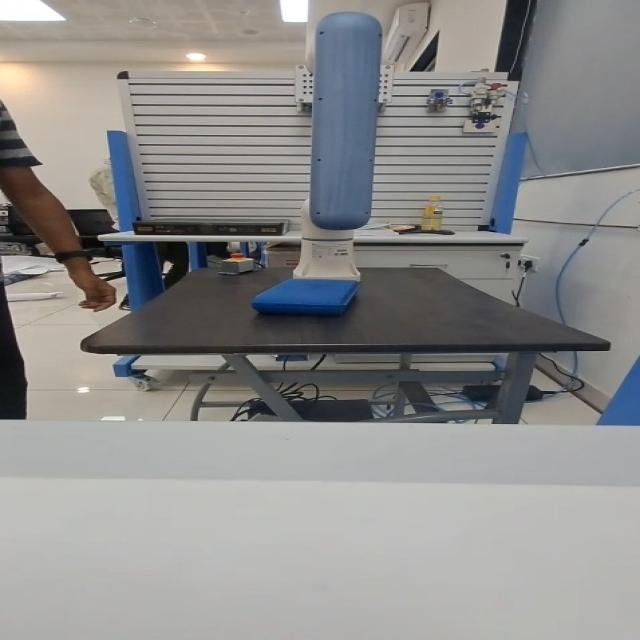top-surface: (266, 279, 347, 300)
